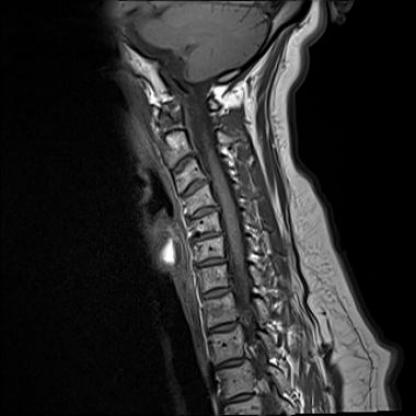Disc Protrusionrotation: (183, 206, 221, 222), (176, 181, 208, 198), (191, 229, 224, 245), (195, 255, 227, 271)
